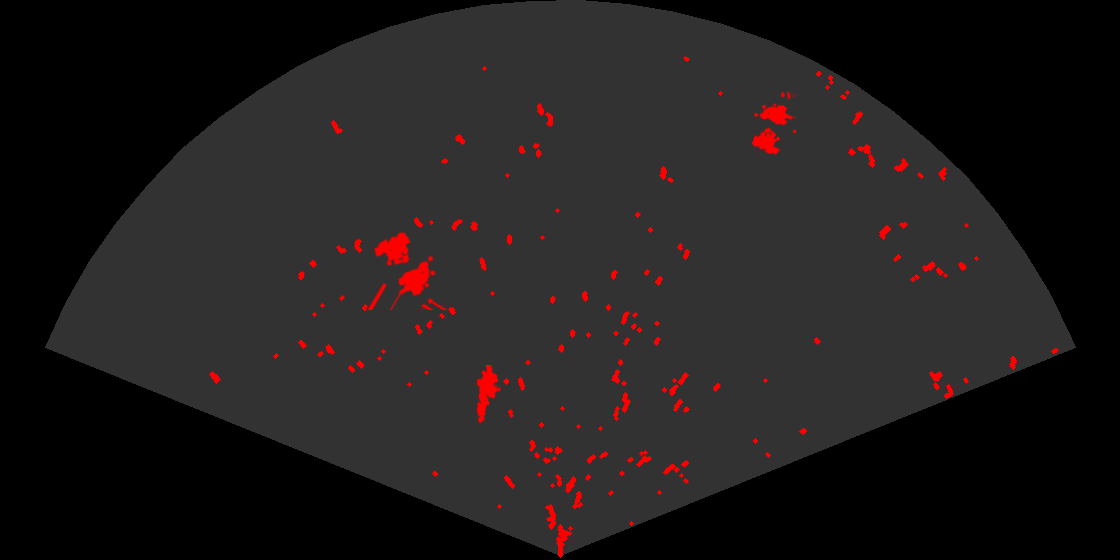cage: (365, 230, 449, 310), (750, 92, 796, 157)
frogman: (475, 365, 503, 425)
